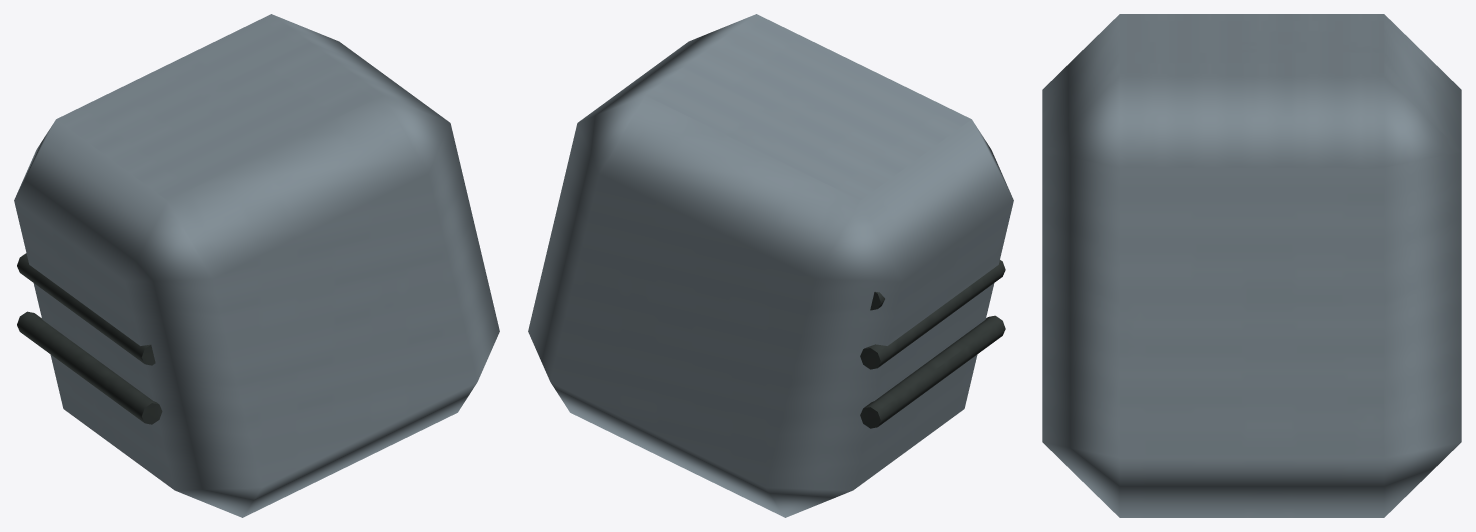
Rendered from prop_breaker.fbx.
The picture shows the model from 3 angles, left to right: view 1: azimuth 30°, elevation 25°; view 2: azimuth 150°, elevation 25°; view 3: azimuth 270°, elevation 25°; orthographic projection. The views are drawn at different scales.
Visible parts, largest first — view 1: SM_prop_breaker; view 2: SM_prop_breaker; view 3: SM_prop_breaker.
Part boxes in pixels (x1,y1,x2,y2): SM_prop_breaker: (14,14,499,517); SM_prop_breaker: (528,14,1013,517); SM_prop_breaker: (1042,14,1461,517).
Bounding box in the file's own units: 0.0796 × 0.0789 × 0.065.
Materials: 2 (2 with a texture image).
